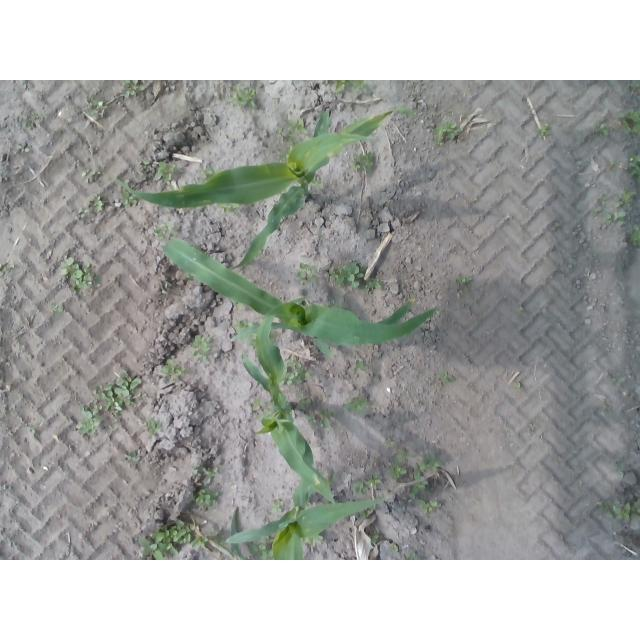Maize: (114, 108, 432, 271), (162, 239, 438, 357), (240, 297, 337, 503), (225, 481, 386, 560), (230, 508, 247, 560)
Weeds: (93, 370, 143, 418), (137, 520, 195, 561), (60, 256, 101, 293), (411, 455, 446, 498), (327, 260, 368, 289), (591, 498, 640, 522), (434, 118, 464, 147), (276, 117, 308, 143), (281, 356, 309, 385), (77, 192, 110, 216), (188, 489, 223, 511), (76, 405, 101, 435), (160, 357, 189, 381), (388, 449, 410, 480), (230, 84, 258, 108), (354, 473, 383, 496), (306, 409, 337, 430), (155, 160, 181, 184), (191, 334, 212, 362), (619, 108, 639, 135), (83, 97, 107, 119), (296, 262, 320, 283), (351, 152, 374, 173), (416, 499, 444, 516), (343, 397, 370, 413), (21, 114, 46, 131), (627, 152, 640, 184), (154, 221, 178, 238), (122, 80, 146, 97), (456, 275, 473, 298), (251, 543, 273, 560), (620, 186, 638, 206), (295, 390, 312, 411), (593, 195, 608, 218), (364, 277, 383, 295), (202, 466, 222, 483), (436, 372, 455, 389), (348, 80, 368, 96), (606, 213, 627, 227), (628, 224, 640, 248), (121, 190, 138, 206), (216, 204, 241, 214), (83, 170, 102, 183), (272, 498, 287, 514), (147, 418, 161, 435), (191, 536, 209, 549), (329, 80, 347, 93), (616, 460, 628, 479), (124, 451, 141, 464), (0, 262, 14, 277), (535, 123, 549, 138), (595, 121, 609, 136), (308, 537, 326, 548), (212, 531, 225, 545), (355, 359, 368, 373), (275, 147, 289, 160), (51, 302, 66, 314), (384, 436, 396, 450), (232, 320, 252, 328), (162, 282, 174, 295), (203, 166, 216, 178), (609, 160, 618, 177), (403, 550, 418, 560), (361, 507, 376, 517), (612, 195, 624, 207), (140, 159, 151, 172), (313, 178, 324, 190), (529, 422, 540, 434), (390, 542, 400, 555), (17, 145, 30, 154), (627, 80, 640, 88), (27, 427, 37, 437), (551, 222, 562, 231), (249, 335, 255, 350), (370, 535, 378, 546), (603, 400, 610, 412), (612, 378, 621, 387), (386, 200, 394, 209), (470, 298, 478, 306), (192, 467, 199, 474), (515, 380, 521, 388), (520, 305, 525, 312)
